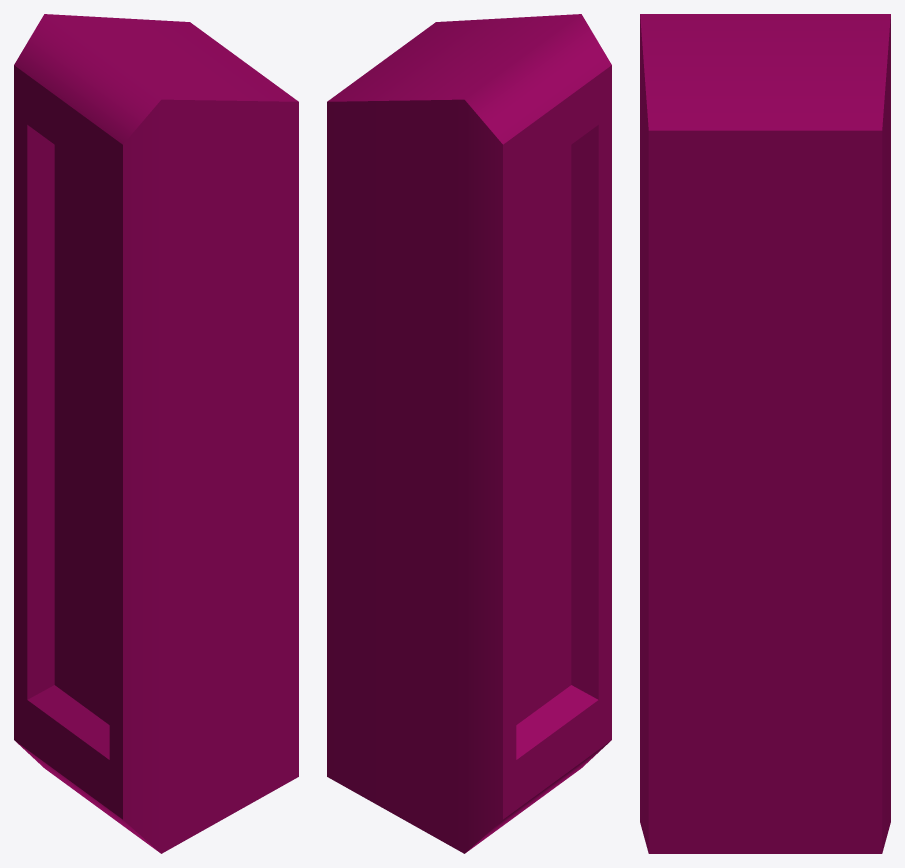
The model's file is Lever_Handle_Base.fbx.
3 views of the same model, side by side, from view 1: azimuth 30°, elevation 25°; view 2: azimuth 150°, elevation 25°; view 3: azimuth 270°, elevation 25° (orthographic). The views are drawn at different scales.
Visible parts, largest first — view 1: Lever_Handle_Base; view 2: Lever_Handle_Base; view 3: Lever_Handle_Base.
Boxes of the visible parts, <box> form: Lever_Handle_Base: <box>14,14,298,853</box>; Lever_Handle_Base: <box>327,14,611,853</box>; Lever_Handle_Base: <box>640,14,890,853</box>.
Size of the model in its own units: 6.03 by 24.68 by 6.94.
